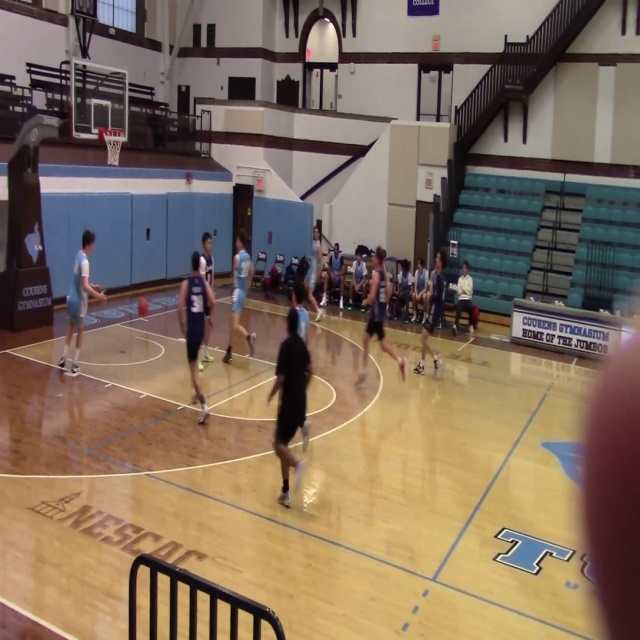Basketball: (294, 306, 309, 341), (138, 297, 149, 317), (198, 362, 204, 371)
